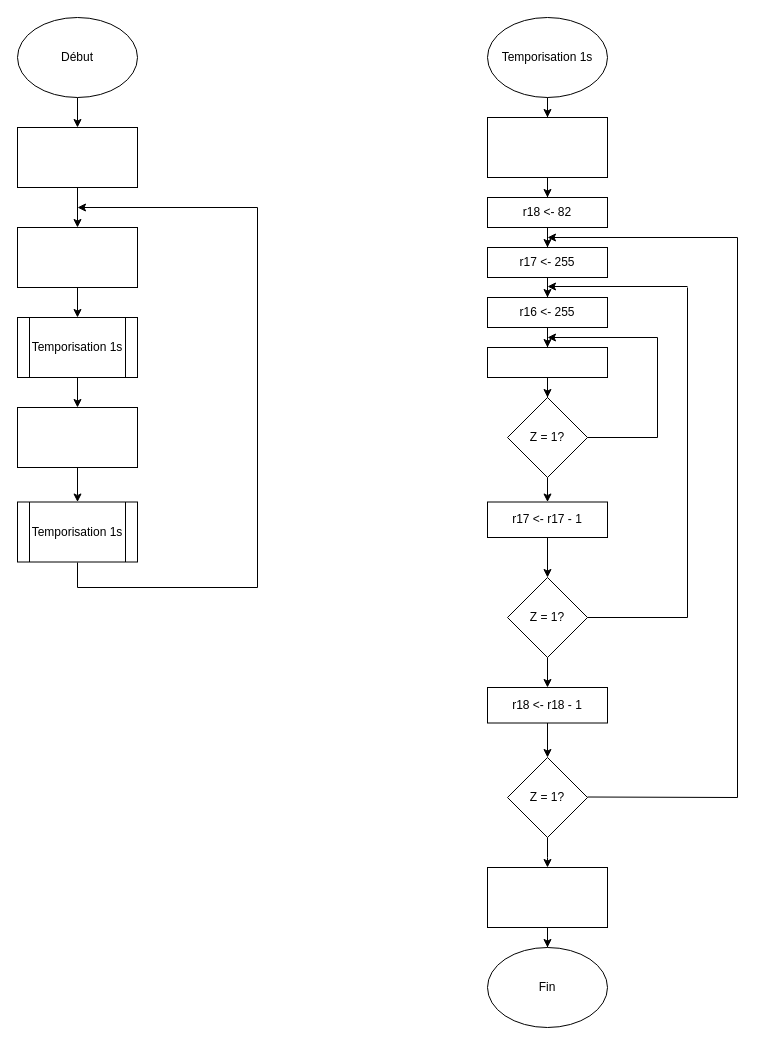
The diagram is 763 pixels wide and 1045 high, and some of its shapes have lost their labels. The centre of each missing label's shape, as x and y in pixels:
"DDRB5 <- 1" belongs at (77,157).
"pop r18 pop r17 pop r16" belongs at (547,897).
"PORTB5 <- 0" belongs at (77,257).
"PORTB5 <- 1" belongs at (77,437).
"push r16 push r17 push r18" belongs at (547,147).
"r16 <- r16 - 1" belongs at (547,362).
